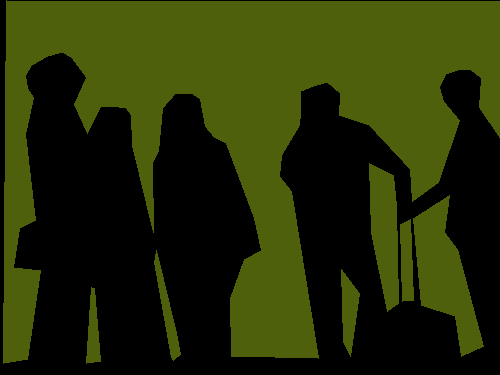Train: (3, 0, 500, 363)
